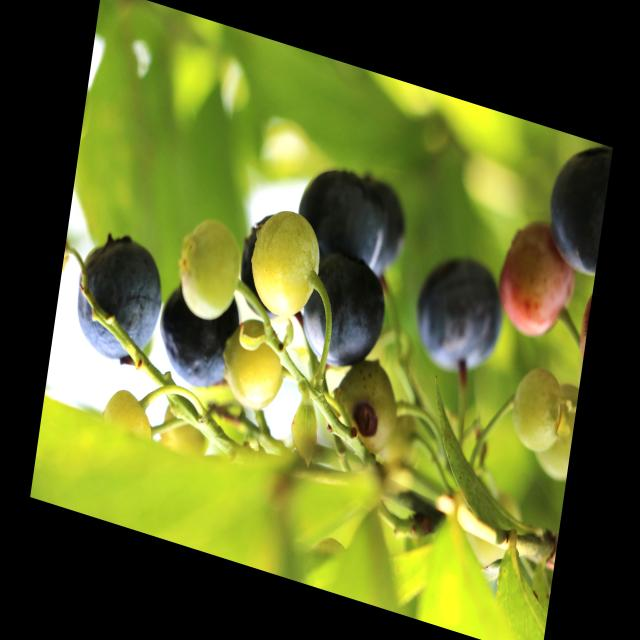blueberry: (406, 240, 512, 388), (70, 224, 167, 373), (292, 157, 394, 283), (298, 248, 394, 380), (151, 275, 242, 397), (538, 132, 612, 280)
blueberry-halfripe: (493, 212, 581, 346)
blueberry-unripe: (245, 200, 327, 328), (330, 356, 406, 464), (217, 311, 292, 419), (173, 214, 244, 327), (502, 356, 566, 458), (528, 375, 579, 485), (156, 397, 216, 467), (98, 384, 159, 451)
